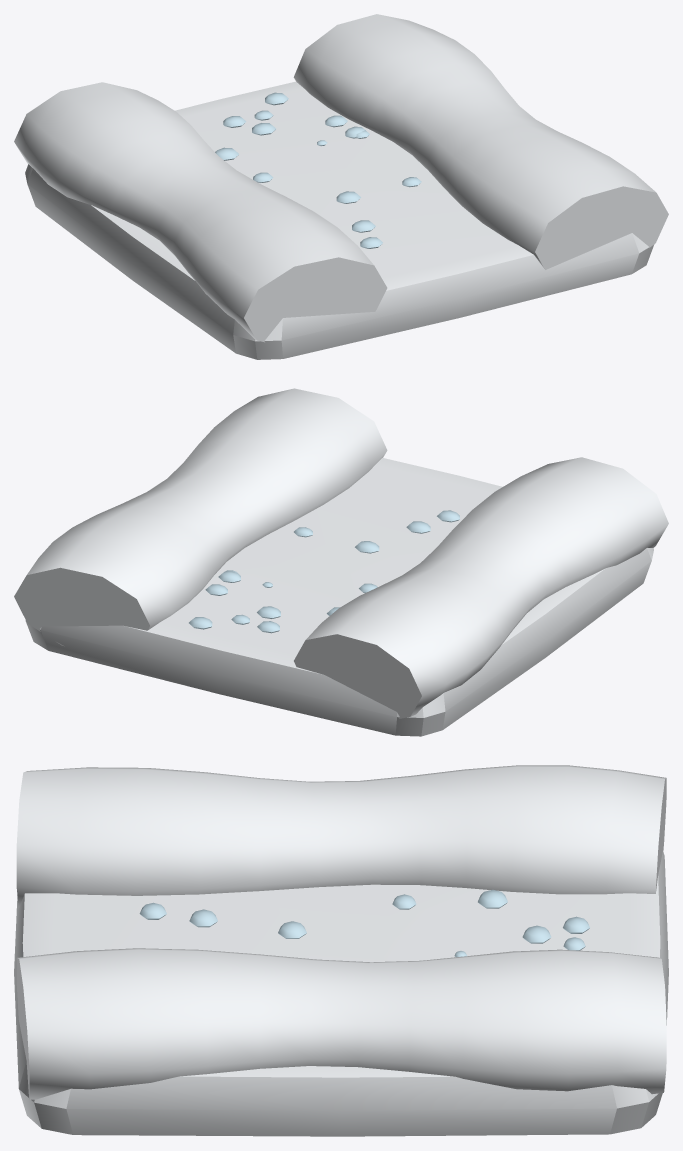
Rendered from SnowyDirtPath.obj.
3 renders of one model, top to bottom at view 1: azimuth 30°, elevation 25°; view 2: azimuth 150°, elevation 25°; view 3: azimuth 270°, elevation 25°, orthographic. The views are drawn at different scales.
Visible parts, largest first — view 1: SnowyDirtPath; view 2: SnowyDirtPath; view 3: SnowyDirtPath.
Boxes of the visible parts, box(x1,y1,x2,y2) form: SnowyDirtPath: box(14, 14, 668, 359); SnowyDirtPath: box(14, 388, 668, 736); SnowyDirtPath: box(14, 765, 668, 1136).
Size of the model in its own units: 8.13 by 1.78 by 8.01.
1 material, 1 textured.
